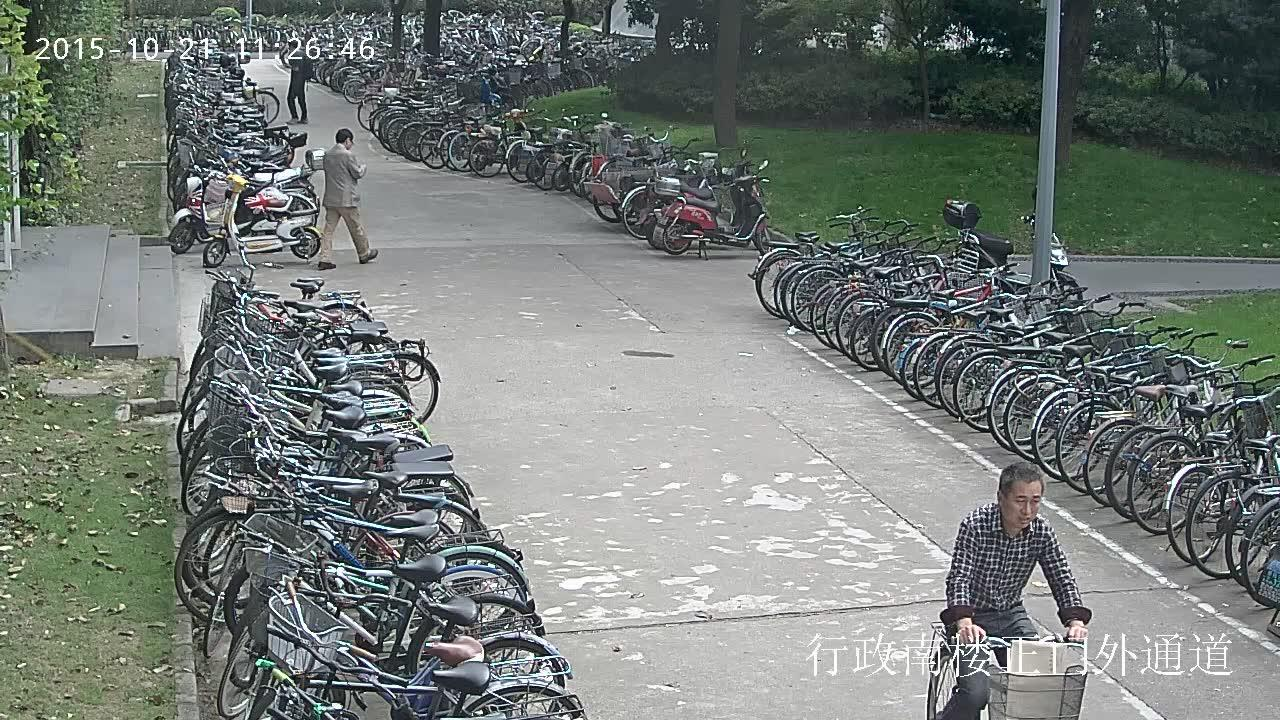person: (926, 458, 1092, 720), (940, 461, 1090, 718), (317, 127, 379, 269), (286, 39, 313, 123)
